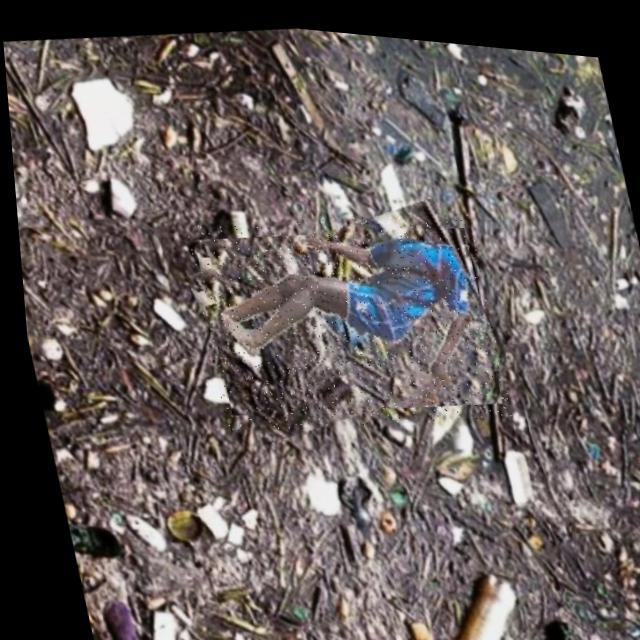Person in Rubble: (176, 181, 509, 449)
